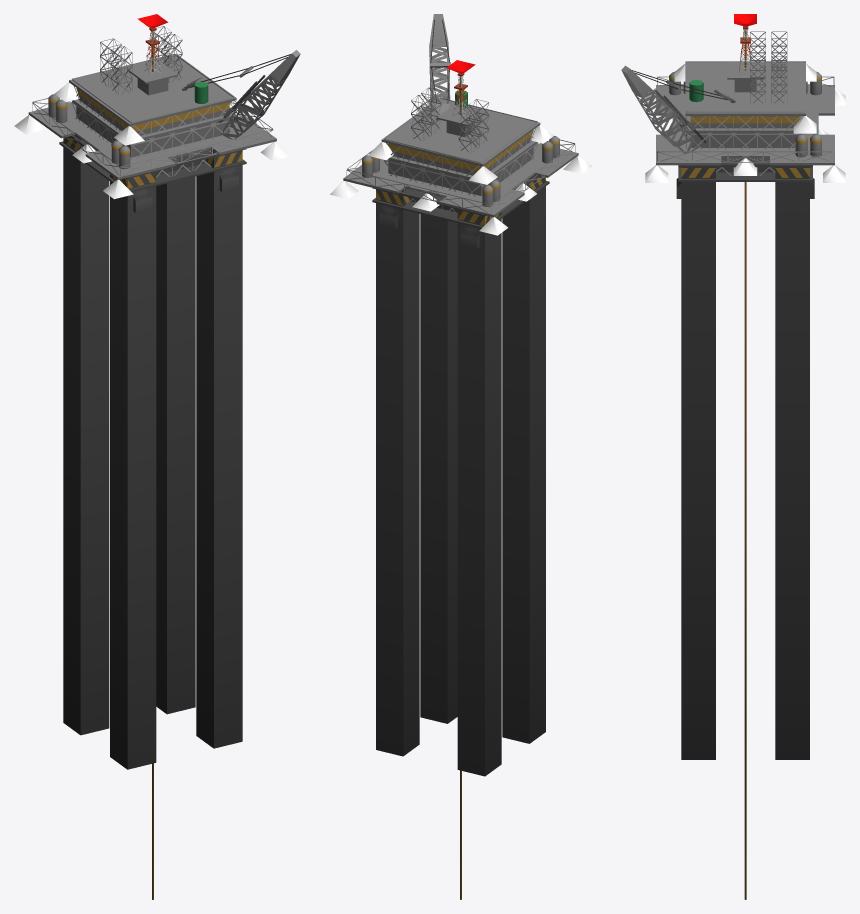
The model's file is Industrial_OilRig.glb.
The picture shows the model from 3 angles, left to right: view 1: azimuth 30°, elevation 25°; view 2: azimuth 150°, elevation 25°; view 3: azimuth 270°, elevation 25°; orthographic projection. The views are drawn at different scales.
Parts seen in each view (by area): view 1: base.021, DblSided.002, light.002; view 2: base.021, DblSided.002, light.002; view 3: base.021, DblSided.002, light.002.
Part boxes in pixels (left/top/right/bottom): base.021: left=28, top=27, right=300, bottom=899; DblSided.002: left=32, top=26, right=273, bottom=177; light.002: left=14, top=14, right=291, bottom=199; base.021: left=343, top=14, right=578, bottom=899; DblSided.002: left=346, top=76, right=575, bottom=215; light.002: left=330, top=60, right=592, bottom=235; base.021: left=621, top=26, right=834, bottom=899; DblSided.002: left=657, top=29, right=834, bottom=175; light.002: left=645, top=14, right=845, bottom=182.
Bounding box in the file's own units: 19.38 × 91.69 × 21.19.
